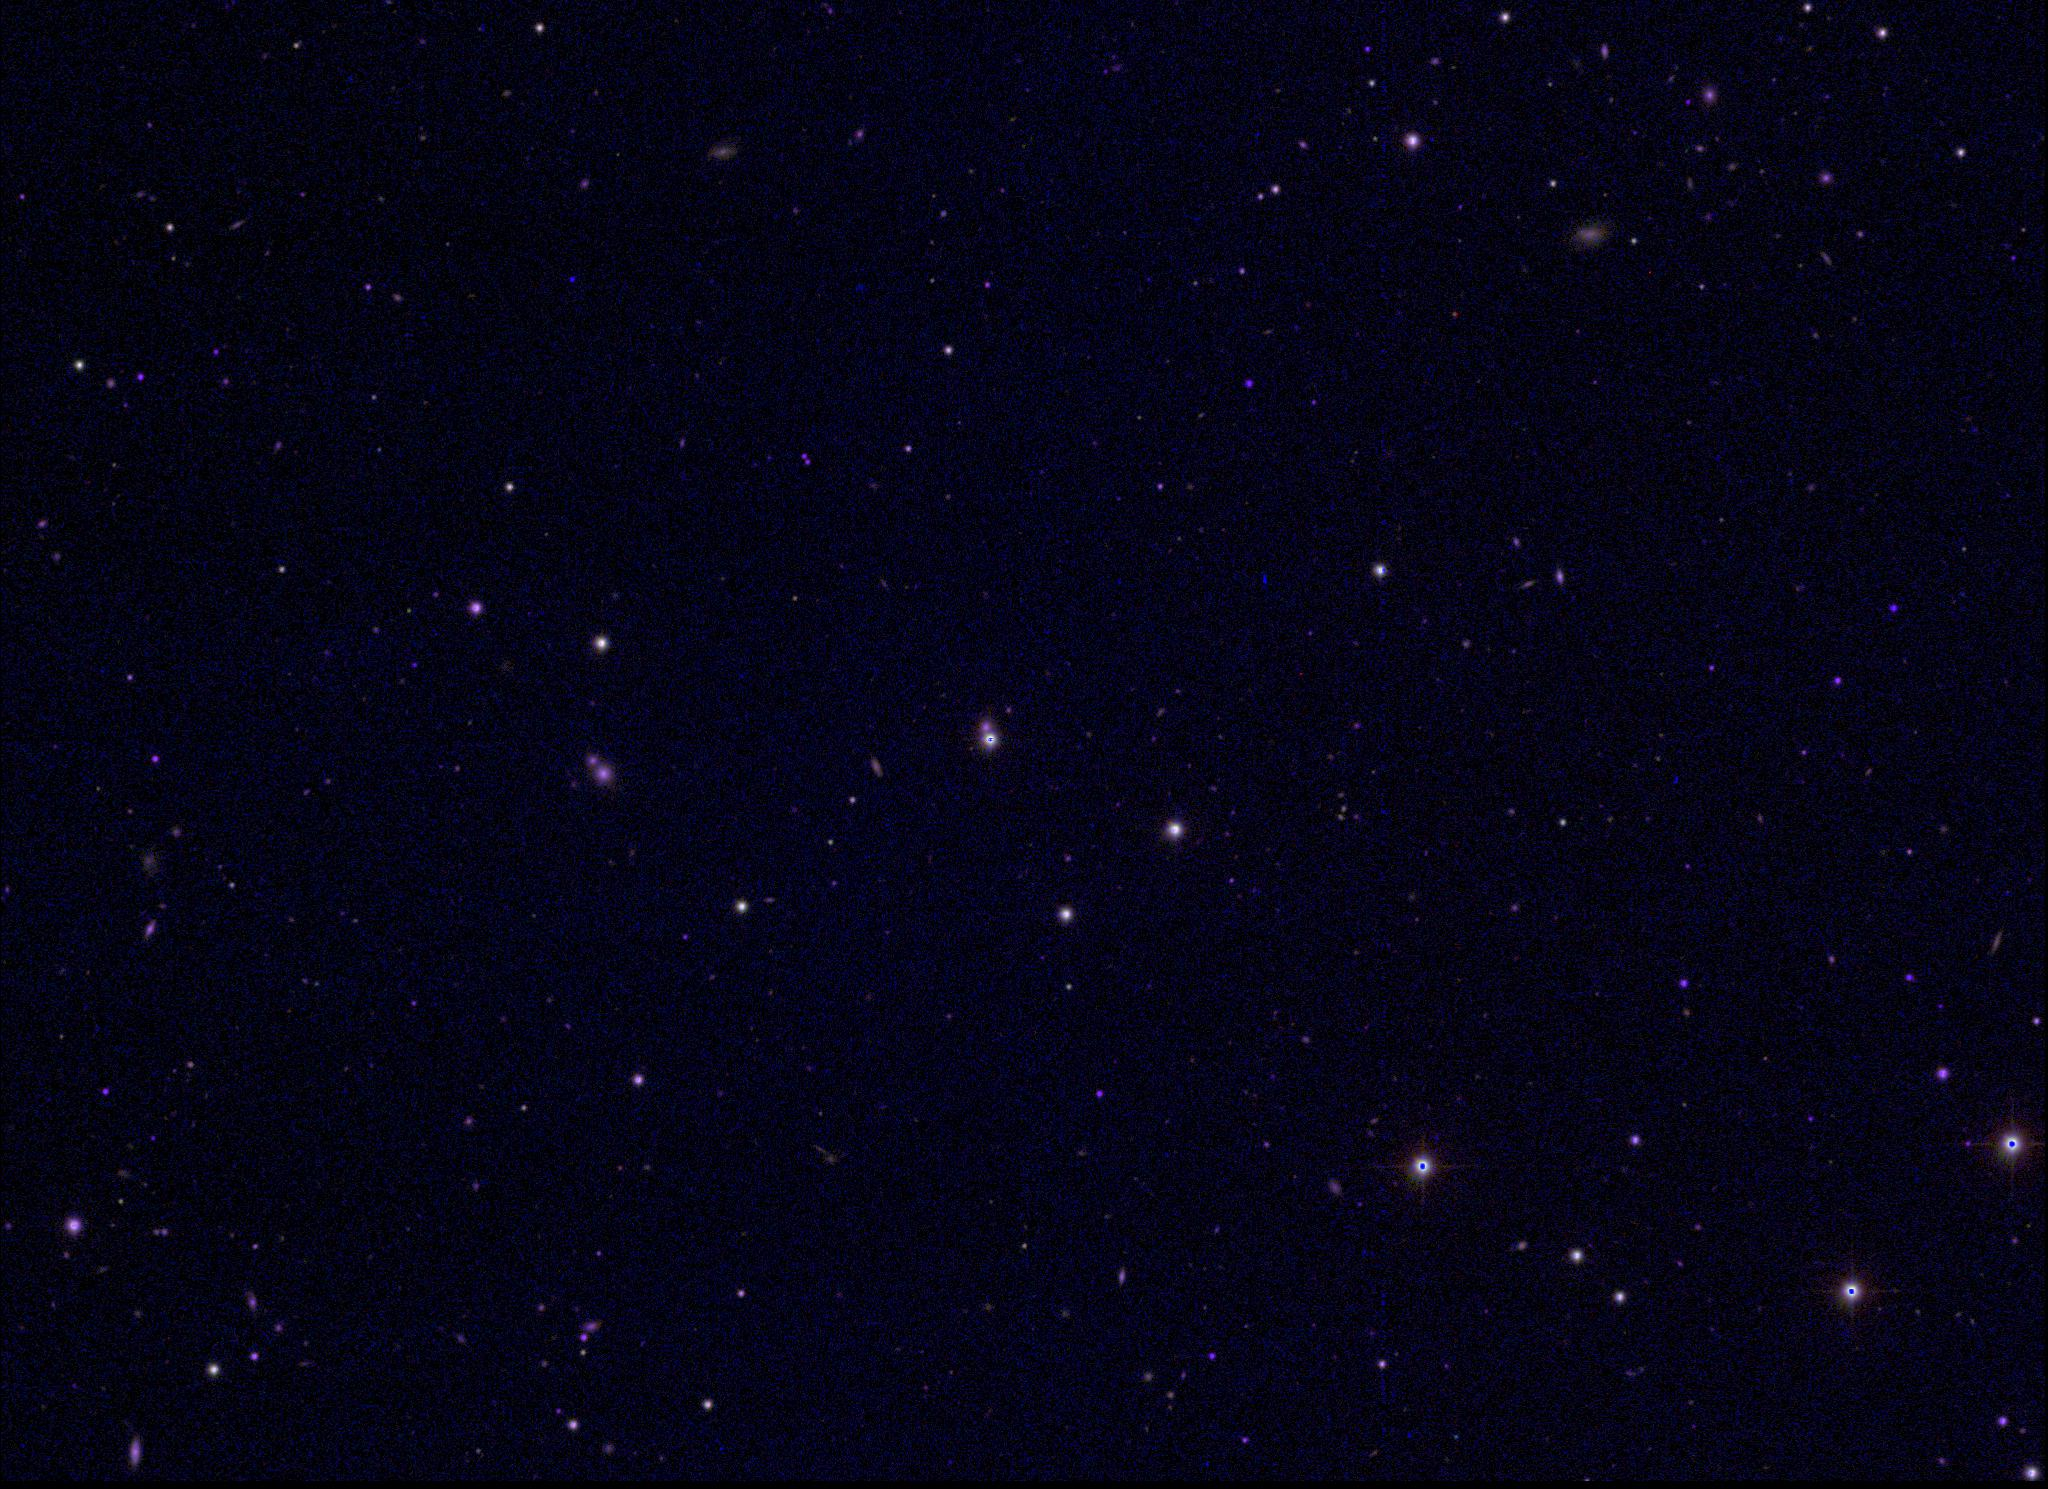L: (564, 274, 579, 286)
